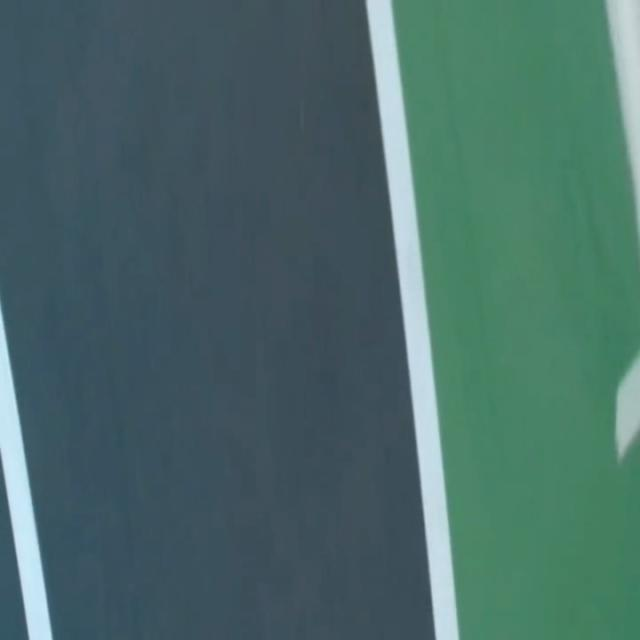right: (366, 0, 459, 639)
